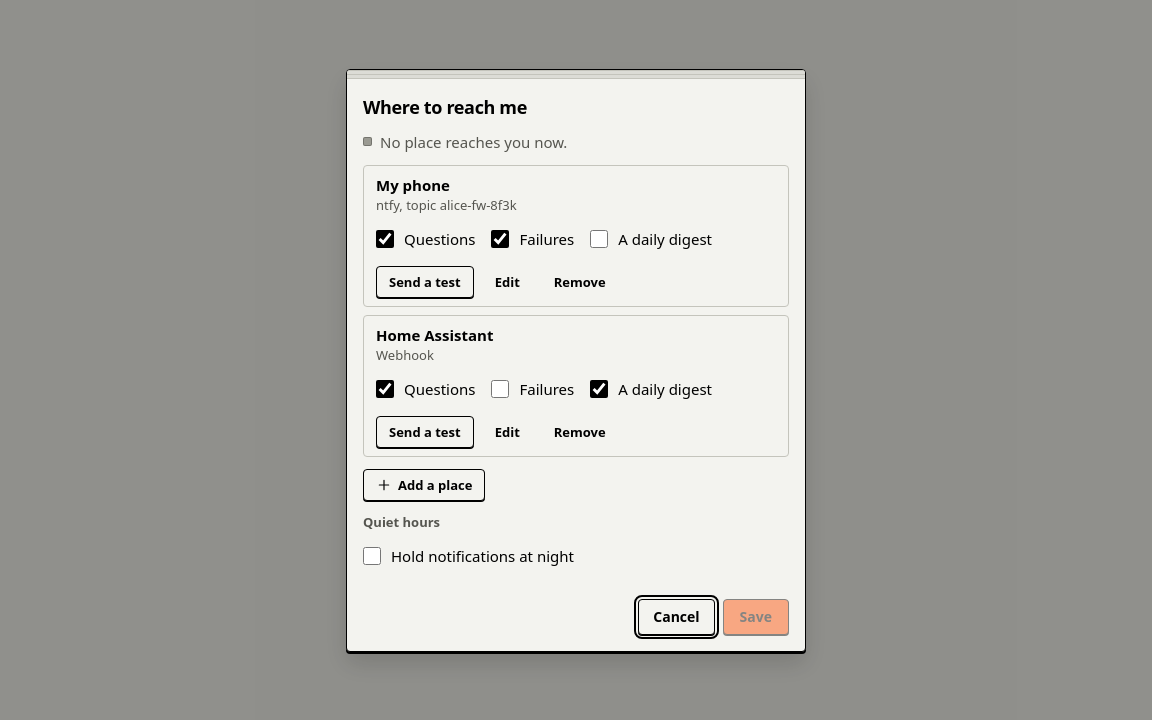
Scenario: Where to reach me › lists each place with its name, where it reaches, its three switches, and its keys, and the reason when nothing goes out
Expected: the message with class "notify-off" reads "No place reaches you now.", [380,132,567,152]
Click the switch labelled "Hold notifications at night" at (372, 556), box [363,546,381,564]
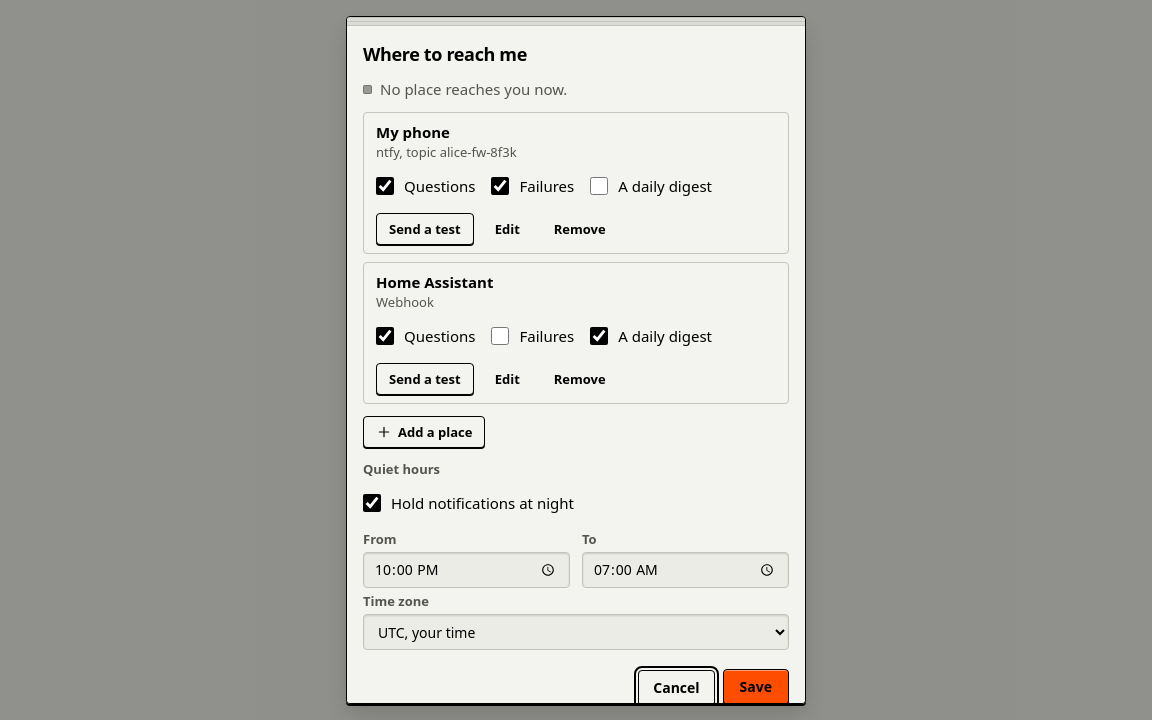
Now the time field labelled "From" holds "22:00", box [363,552,570,588]
Now the dropdown labelled "Time zone" shows "UTC, your time", box [363,614,789,650]
